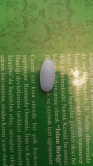Apranax: (38, 58, 56, 94)
